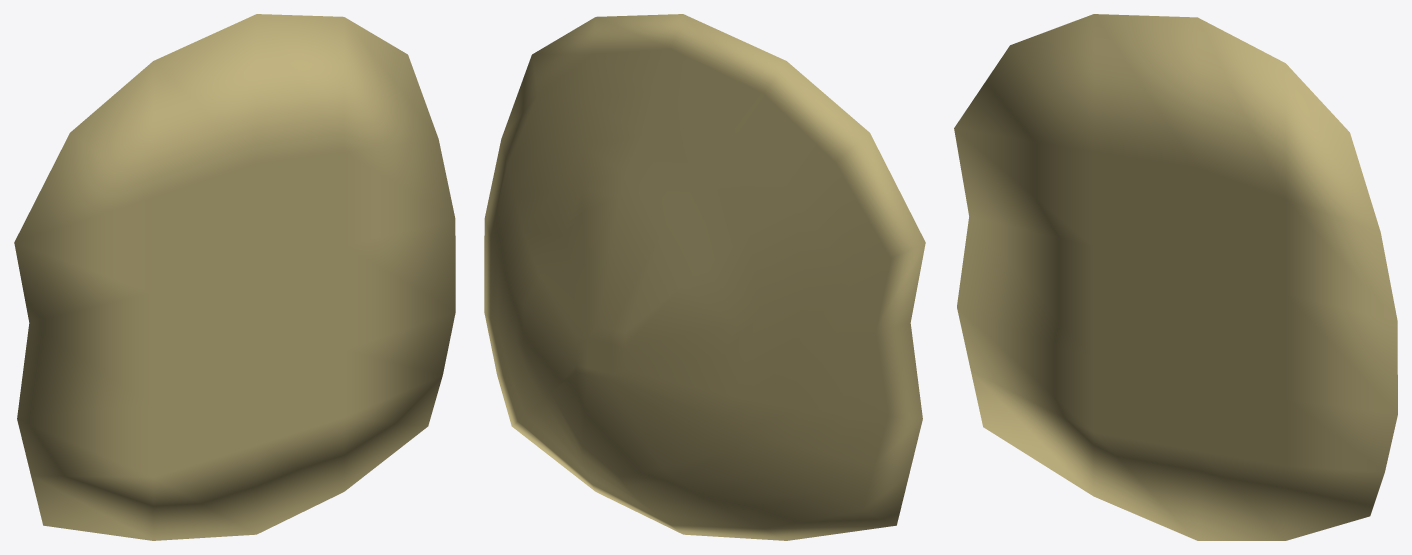
Rendered from island.fbx.
3 renders of one model, left to right at view 1: azimuth 30°, elevation 25°; view 2: azimuth 150°, elevation 25°; view 3: azimuth 330°, elevation 25°, orthographic.
Visible parts, largest first — view 1: Island; view 2: Island; view 3: Island.
Boxes of the visible parts, x1,y1,x2,y2 form: Island: (14, 14, 455, 540); Island: (484, 14, 925, 540); Island: (954, 14, 1397, 540).
Bounding box in the file's own units: 18.08 × 20.37 × 2.03.
